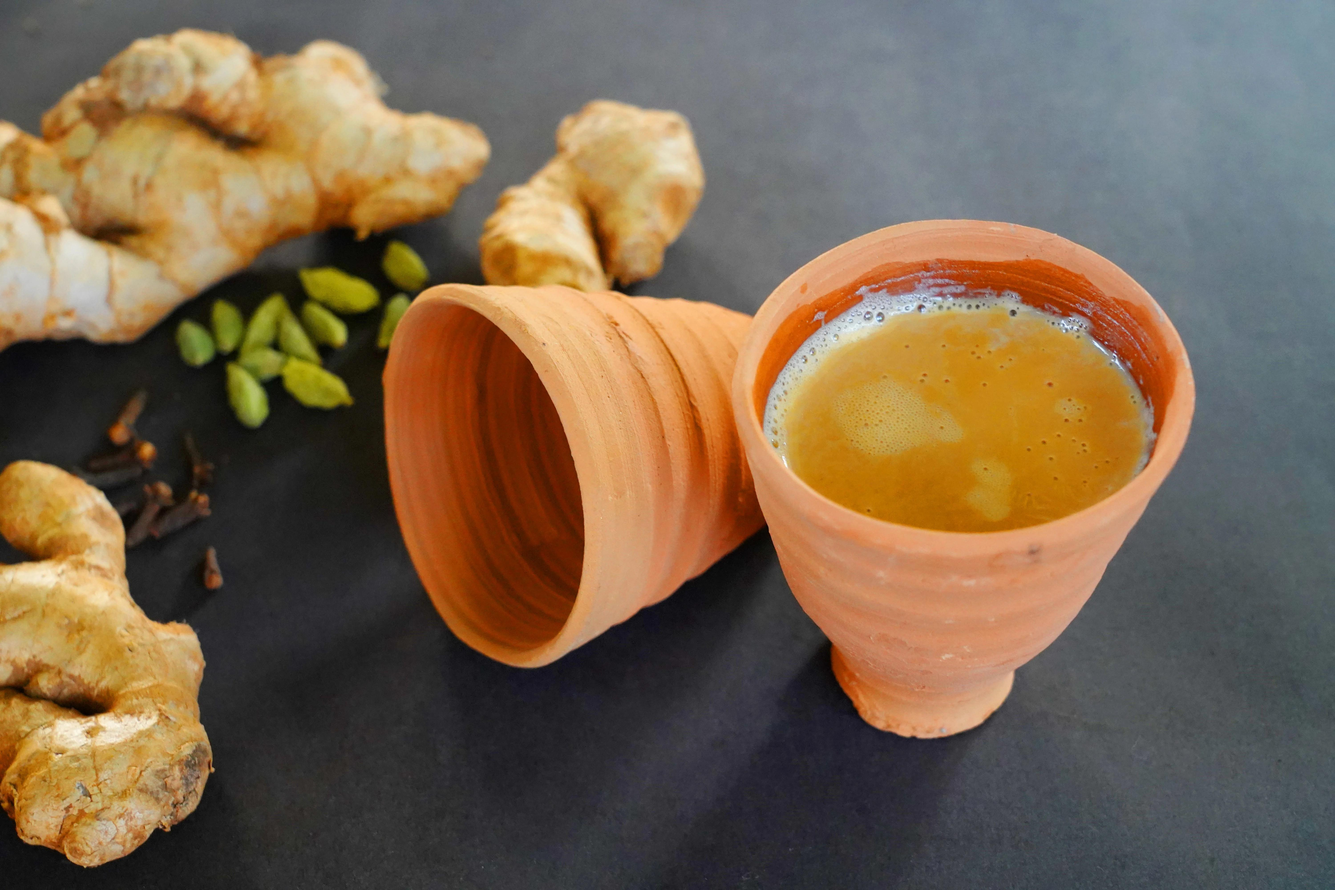Chai: (771, 288, 1156, 536)
